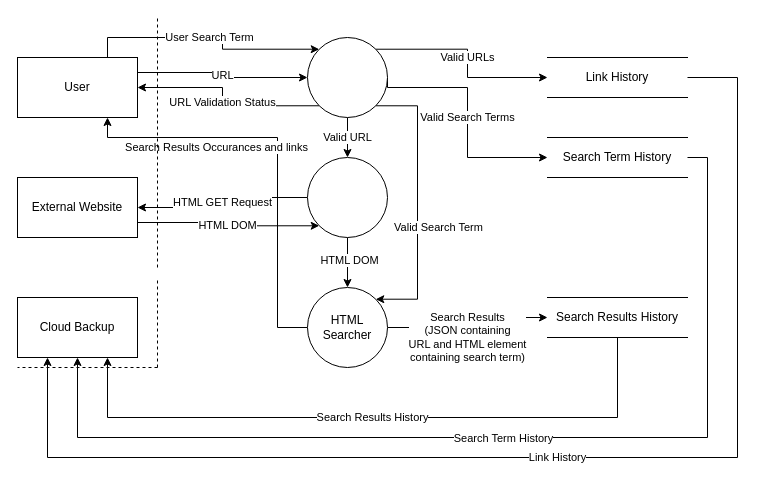
The diagram is 763 pixels wide and 483 high, and some of its shapes have lost their labels. Here are the shapes that lost their labels. From the top down, the centre of each, then its label:
pixel 347 77: Input Validator
pixel 347 197: HTML Scraper
